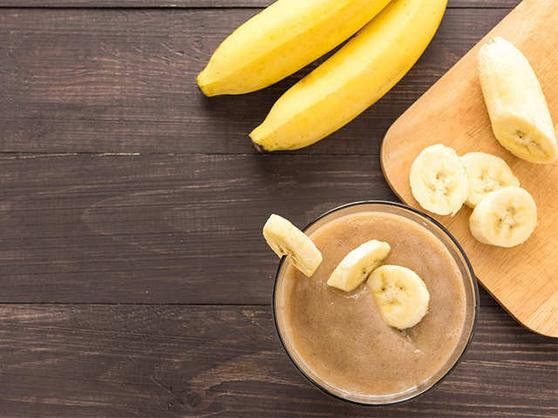banana: (262, 1, 450, 178)
